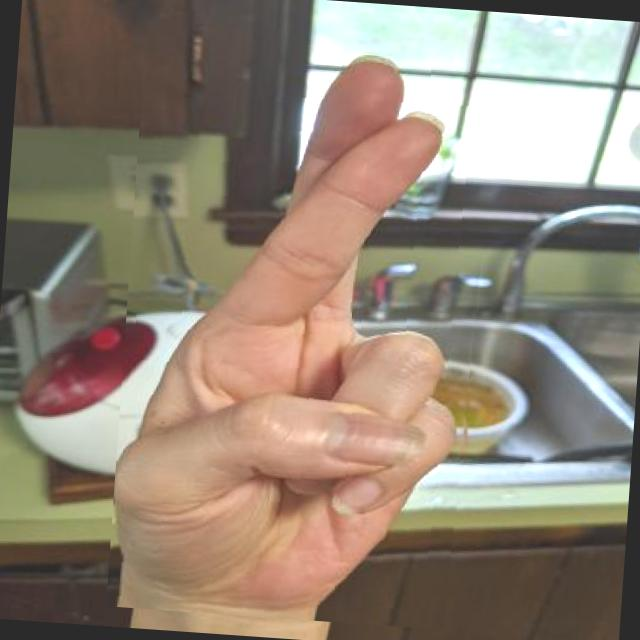R: (106, 32, 500, 630)
